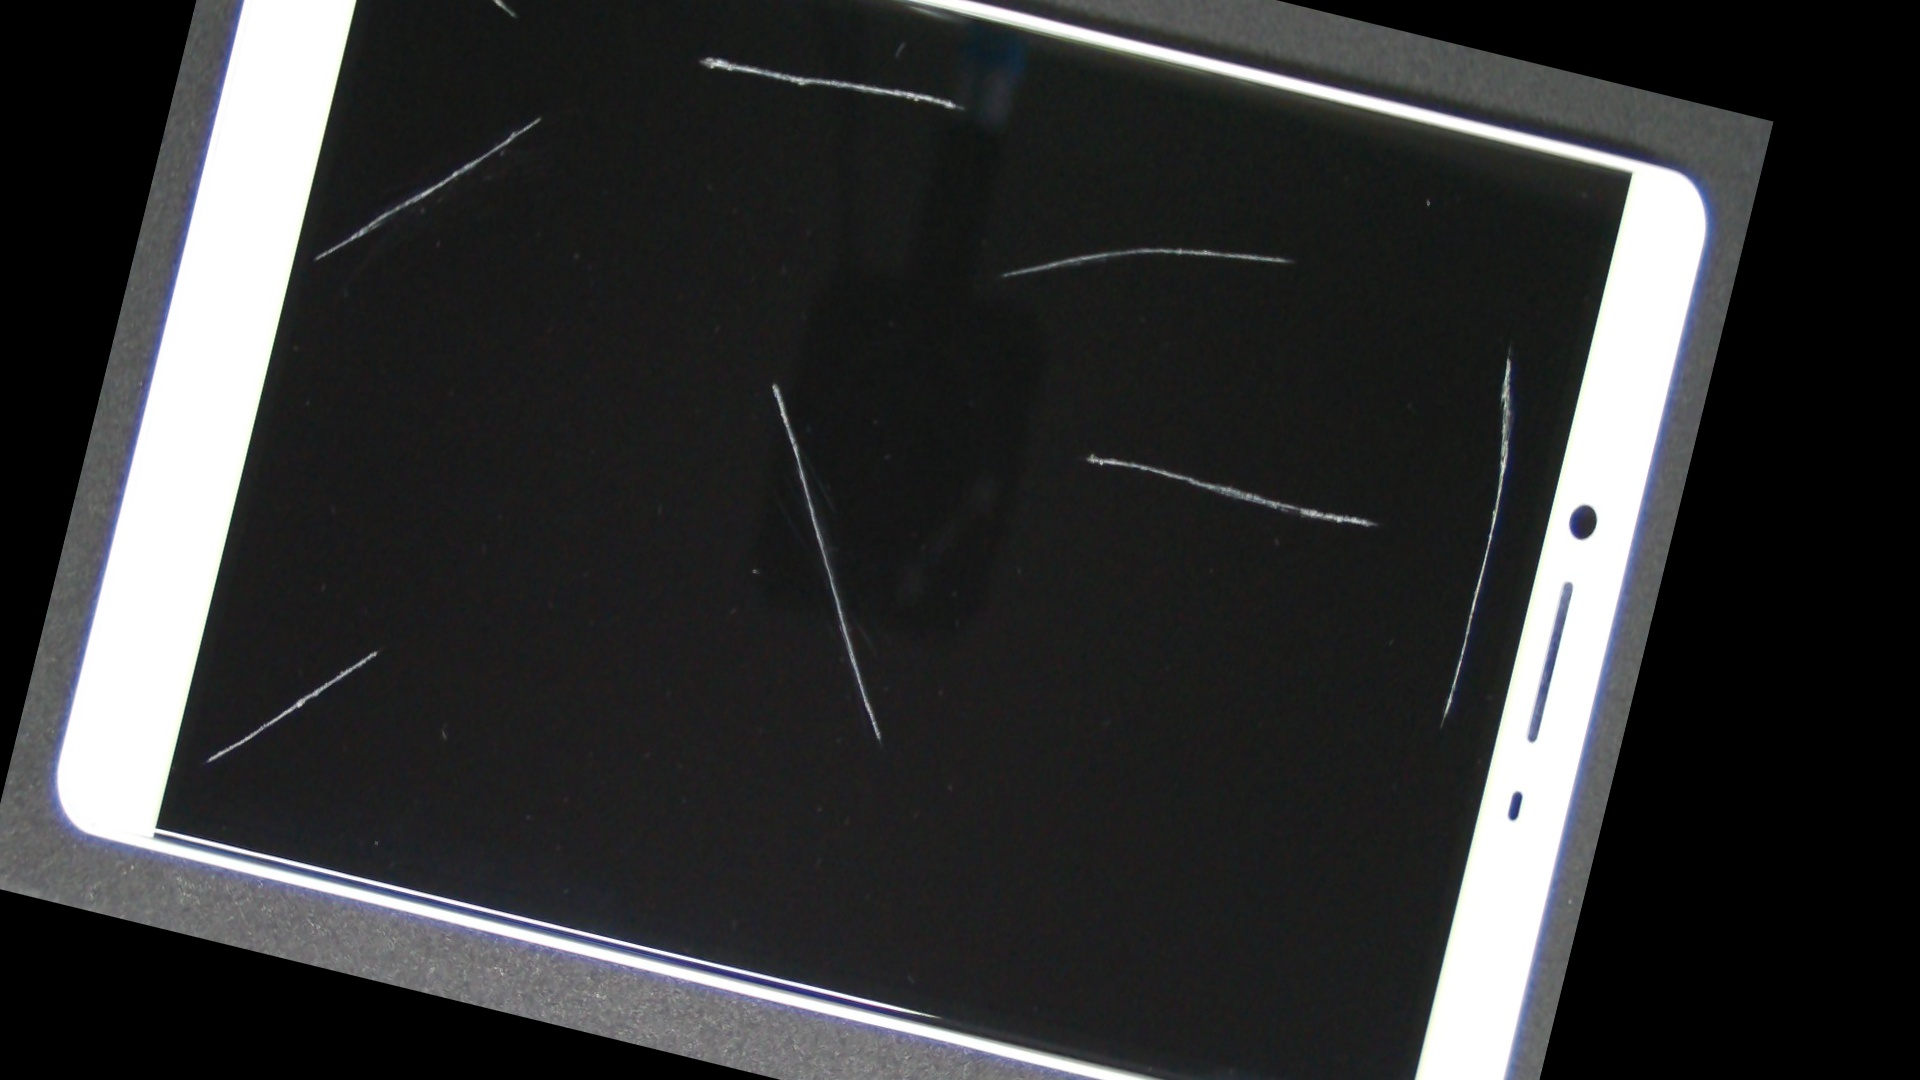oil: (699, 135, 1717, 823), (717, 5, 1745, 483), (401, 65, 1147, 695), (819, 47, 1741, 529), (142, 200, 640, 1002), (563, 0, 1337, 272), (331, 0, 750, 298)
